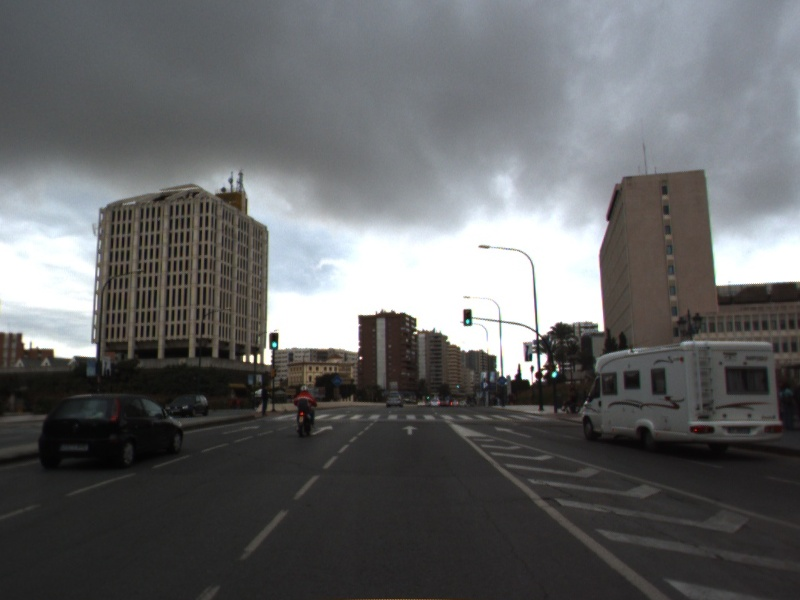STRAIGHT: (493, 424, 535, 439), (219, 423, 263, 437), (310, 423, 336, 436), (399, 423, 420, 437)
